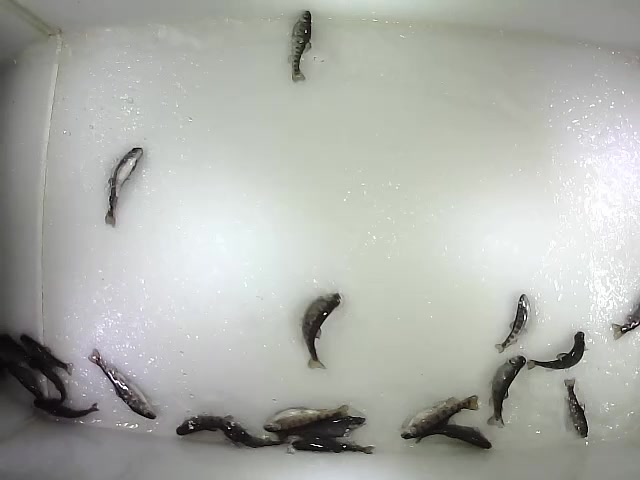fish: (85, 346, 158, 421), (399, 394, 480, 442), (277, 402, 368, 443), (299, 290, 343, 372), (104, 146, 144, 230), (486, 355, 527, 430), (526, 330, 591, 372), (261, 403, 350, 432), (415, 421, 493, 451), (493, 293, 531, 354), (223, 419, 289, 454), (287, 8, 313, 85), (561, 376, 590, 442), (292, 436, 376, 457), (173, 415, 241, 439), (33, 397, 100, 421)
